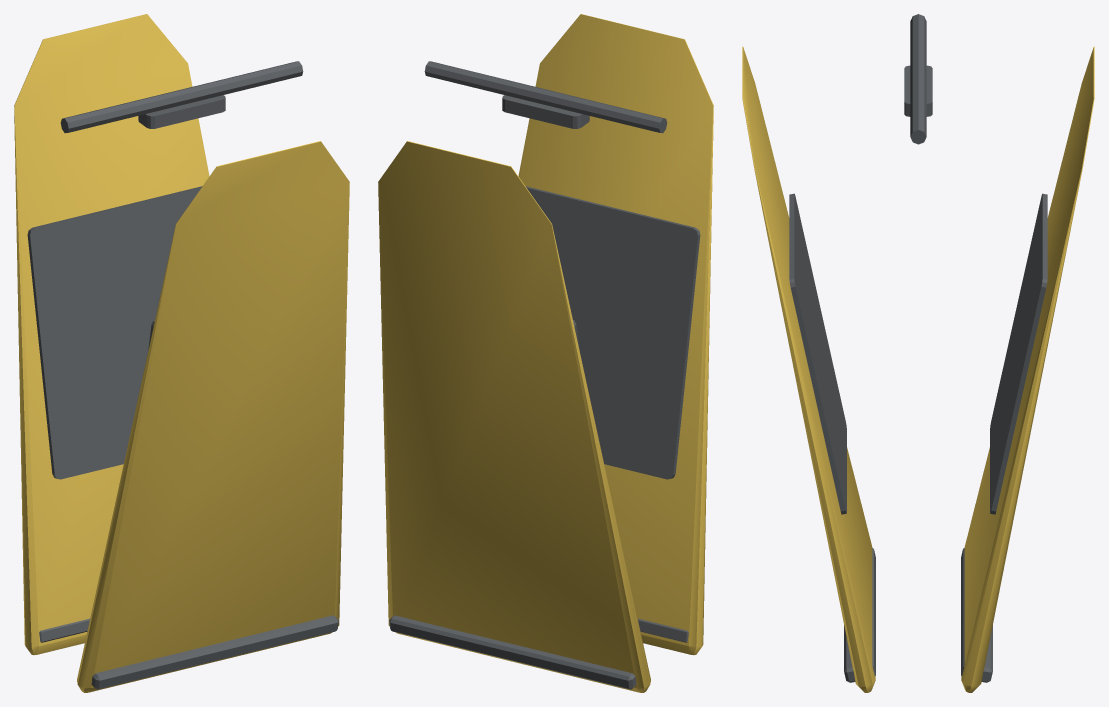
File: wetflooor.glb
3 views of the same model, side by side, from view 1: azimuth 30°, elevation 25°; view 2: azimuth 150°, elevation 25°; view 3: azimuth 270°, elevation 25° (orthographic).
Visible parts, largest first — view 1: wet-floor-sign; view 2: wet-floor-sign; view 3: wet-floor-sign.
Part boxes in pixels (x1=…): wet-floor-sign: x1=14, y1=14, x2=349, y2=692; wet-floor-sign: x1=378, y1=14, x2=713, y2=692; wet-floor-sign: x1=742, y1=14, x2=1094, y2=692.
Bounding box in the file's own units: 0.3 × 0.6088 × 0.3473.
